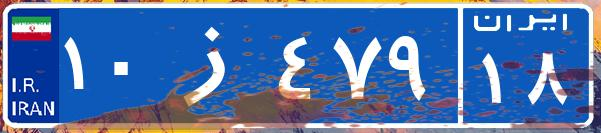0: (110, 28, 158, 105)
1: (57, 26, 110, 107), (475, 38, 525, 113)
4: (273, 28, 330, 110)
7: (330, 28, 385, 110)
8: (525, 38, 570, 115)
9: (385, 28, 445, 110)
ز: (158, 15, 273, 115)
